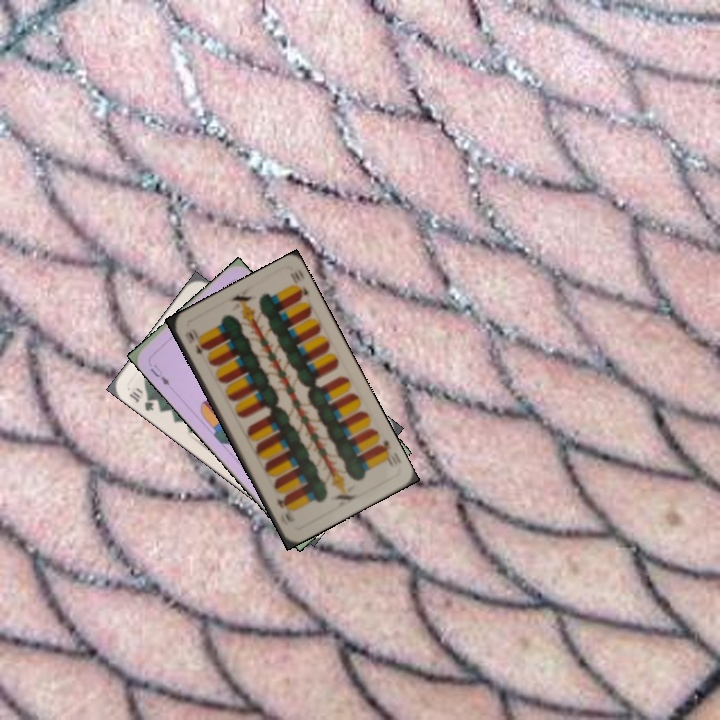E10: (181, 327, 207, 357), (373, 436, 396, 469)
EU: (146, 360, 173, 388)
G10: (125, 387, 157, 414)
